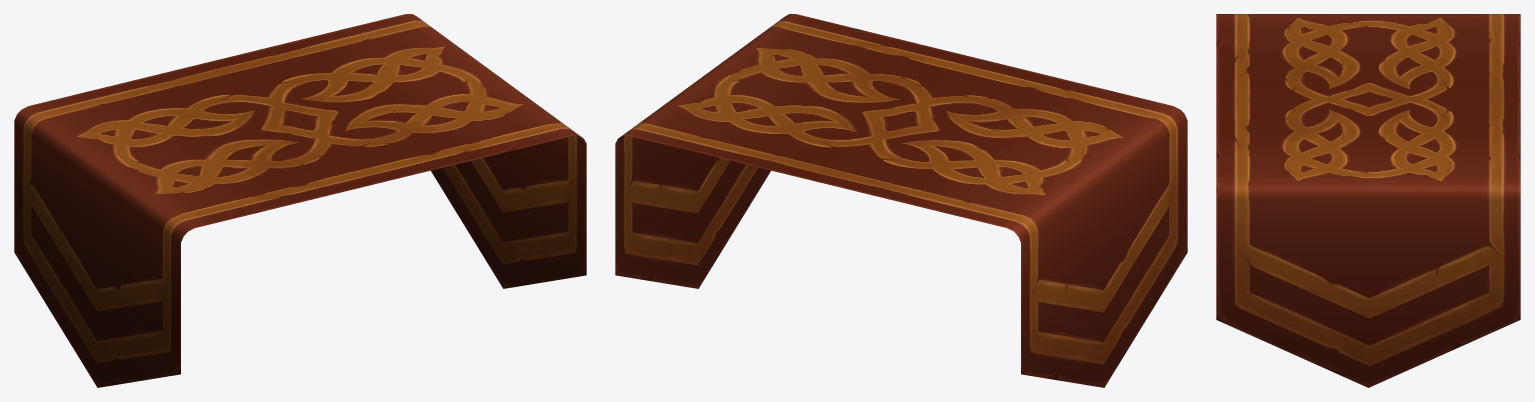
Rendered from Tablecloth.FBX.
3 renders of one model, left to right at view 1: azimuth 30°, elevation 25°; view 2: azimuth 150°, elevation 25°; view 3: azimuth 270°, elevation 25°, orthographic. The views are drawn at different scales.
Parts seen in each view (by area): view 1: Tablecloth; view 2: Tablecloth; view 3: Tablecloth.
Boxes of the visible parts, box(x1,y1,x2,y2) form: Tablecloth: box(14, 14, 586, 387); Tablecloth: box(615, 14, 1187, 387); Tablecloth: box(1216, 14, 1520, 387).
Bounding box in the file's own units: 1288 × 659 × 916.
